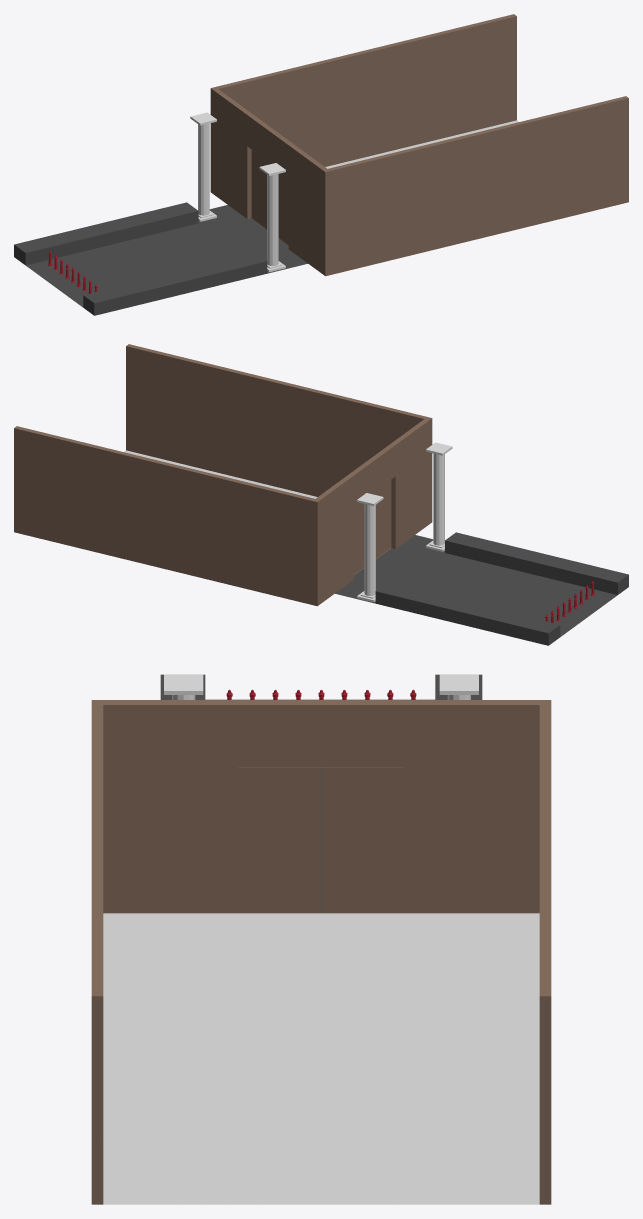
The picture shows the model from 3 angles, top to bottom: view 1: azimuth 30°, elevation 25°; view 2: azimuth 150°, elevation 25°; view 3: azimuth 270°, elevation 25°; orthographic projection. The views are drawn at different scales.
Parts seen in each view (by area): view 1: wall_1, wall_2, Plane, wall_0, door, column_1, column_2, floor; view 2: wall_2, wall_1, Plane, wall_0, door, column_2, column_1, floor; view 3: floor, wall_0, door, wall_1, wall_2, column_1, column_2, Plane.
Part boxes in pixels (<box>): wall_1: <box>328,96,628,274</box>; wall_2: <box>216,14,516,166</box>; Plane: <box>14,202,307,315</box>; wall_0: <box>210,87,330,276</box>; door: <box>251,150,288,244</box>; column_1: <box>190,112,216,221</box>; column_2: <box>259,163,285,272</box>; floor: <box>325,120,518,168</box>; wall_2: <box>14,426,314,604</box>; wall_1: <box>126,344,426,496</box>; Plane: <box>335,532,628,645</box>; wall_0: <box>312,417,432,606</box>; door: <box>354,480,391,574</box>; column_2: <box>426,442,452,551</box>; column_1: <box>357,493,383,602</box>; floor: <box>124,450,317,498</box>; floor: <box>103,913,539,1204</box>; wall_0: <box>91,700,551,913</box>; door: <box>238,767,404,913</box>; wall_1: <box>91,705,103,1204</box>; wall_2: <box>539,705,551,1204</box>; column_1: <box>439,674,478,699</box>; column_2: <box>164,674,203,699</box>; Plane: <box>160,674,482,913</box>.
Size of the model in its own units: 26 by 5 by 10.
6 materials, 6 textured.
